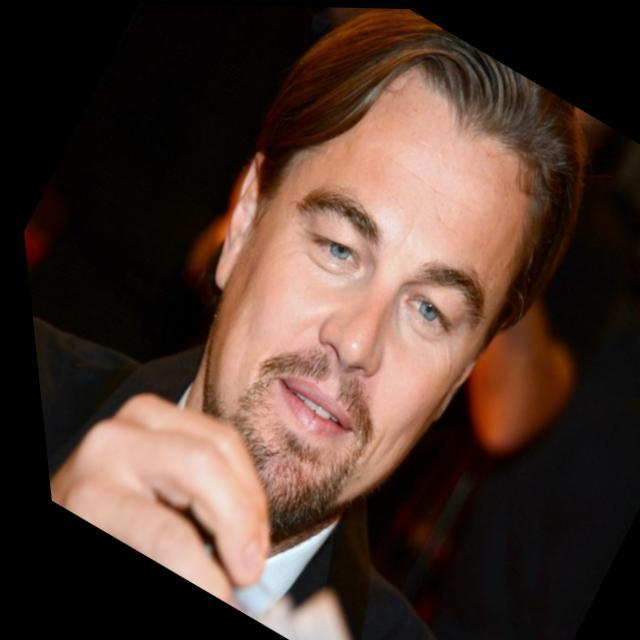Nonhelmet: (192, 0, 556, 580)
